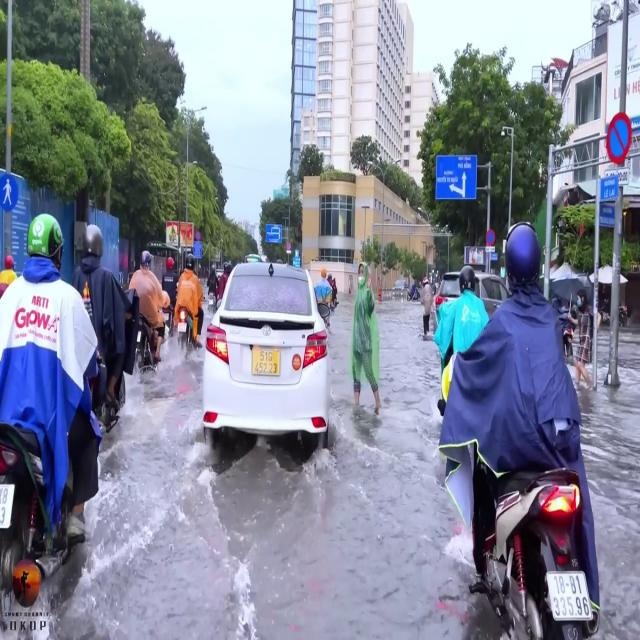bien_trang: (544, 566, 594, 622)
bien_vang: (250, 344, 282, 375)
